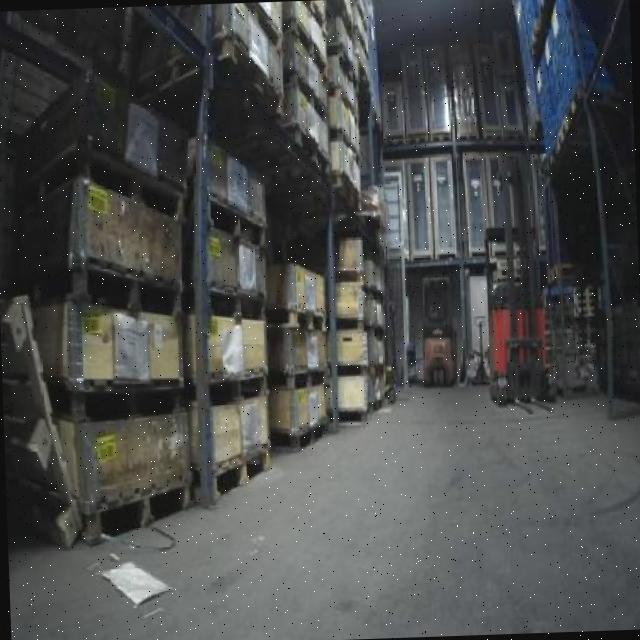pallet: (59, 455, 202, 544), (41, 360, 196, 433), (59, 245, 190, 323), (194, 428, 282, 516), (195, 358, 275, 413), (196, 284, 274, 324), (264, 358, 332, 396), (270, 302, 332, 338)
